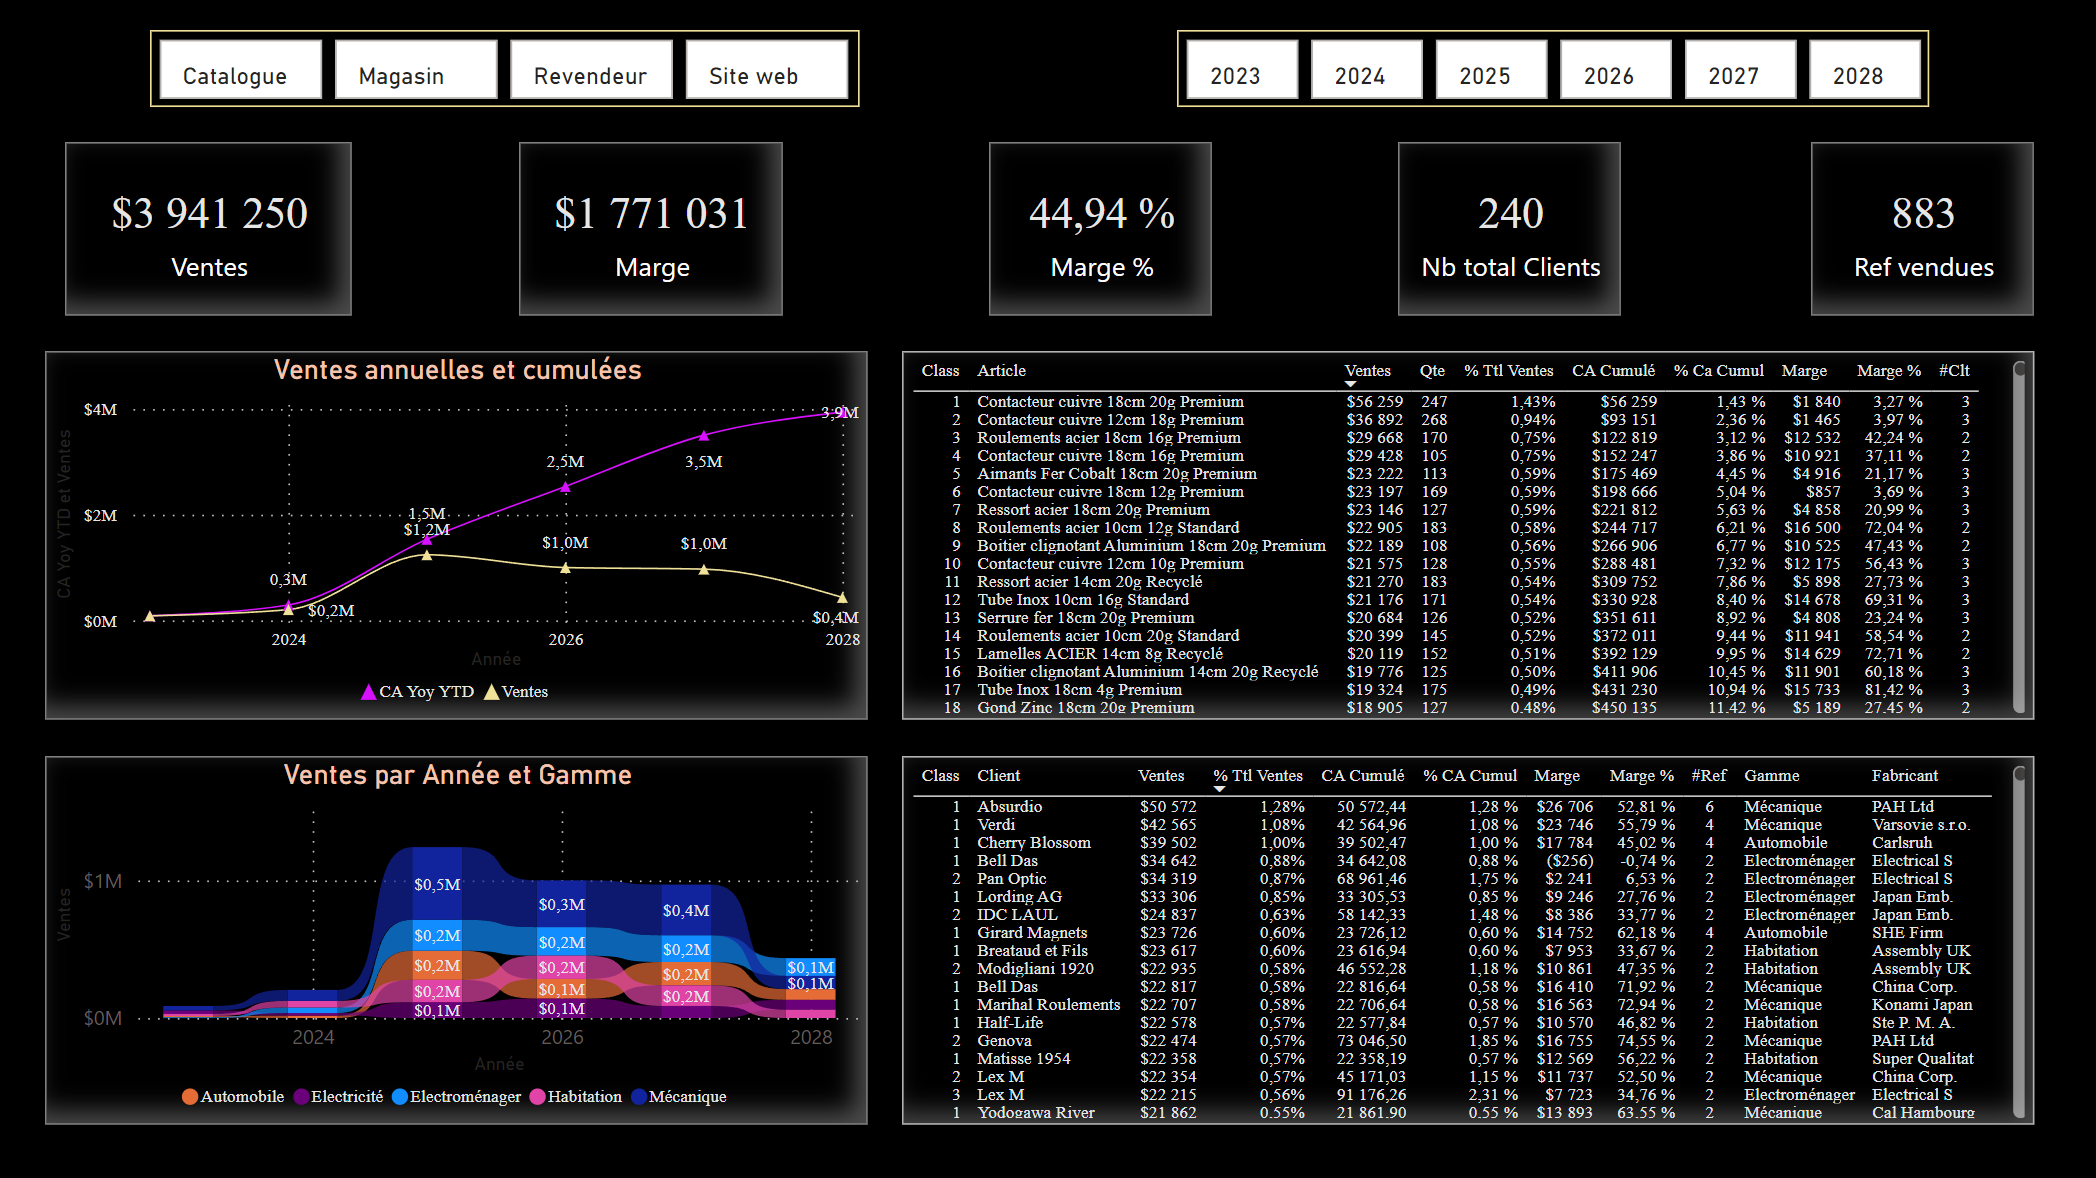

Layout of this report page (visuals, bound fields, positions):
{"tool":"powerbi","page":{"name":"CA par Canal","canvas":[1280,720],"ordinal":1},"visuals":[{"type":"advancedSlicerVisual","fields":{"Values":["Canal.Canal"]},"box":[91.5,18.9,433.2,47],"z":0},{"type":"advancedSlicerVisual","fields":{"Values":["Date.Année"]},"box":[718.2,18.9,459.5,47],"z":1000},{"type":"lineChart","title":"Ventes annuelles et cumulées","fields":{"Category":["Date.Année"],"Y":["Mesures.CA Yoy YTD","Mesures.Ventes"]},"box":[27.5,214.8,501.6,224.5],"z":2000},{"type":"ribbonChart","fields":{"Y":["Mesures.Ventes"],"Series":["Gamme.Gamme"],"Category":["Date.Année"]},"box":[27.5,461.9,501.6,224.5],"z":3000},{"type":"card","fields":{"Values":["Mesures.Nb Clients"]},"box":[853,87.3,136.1,105.6],"z":4000},{"type":"tableEx","fields":{"Values":["Mesures.Classement","Clients.Client","Mesures.Ventes","Divide(Mesures.Ventes, ScopedEval(Mesures.Ventes, []))","Mesures.Cumul client rank","Mesures.%Cumul Client Rank","Mesures.Marge","Mesures.Marge %","Mesures.Ref vendues","Gamme.Gamme","Fabricants.Fabricant"]},"box":[550.4,461.9,690.7,224.5],"z":5000},{"type":"card","fields":{"Values":["Mesures.Ref vendues"]},"box":[1105,87.3,136.1,105.6],"z":6000},{"type":"card","fields":{"Values":["Mesures.Marge"]},"box":[316.7,87.3,161.1,105.6],"z":7000},{"type":"card","fields":{"Values":["Mesures.Ventes"]},"box":[39.7,87.3,174.5,105.6],"z":8000},{"type":"card","fields":{"Values":["Mesures.Marge %"]},"box":[603.5,87.3,136.1,105.6],"z":9000},{"type":"tableEx","fields":{"Values":["Mesures.Classement Articles","Articles.Article","Mesures.Ventes","Mesures.Qte vendues","Divide(Mesures.Ventes, ScopedEval(Mesures.Ventes, []))","Mesures.Cumul Article rank","Mesures.%Cumul Articles Rank","Mesures.Marge","Mesures.Marge %","Mesures.Clt par ref"]},"box":[550.4,214.8,690.7,224.5],"z":10000}]}

Visuals, with their boxes in screenshot pixels (x1, y1, x2, y2), scaled from the page's 1280x720 canvas onto the 2096x1178 screenshot:
advancedSlicerVisual - Canal.Canal: {"left": 150, "top": 31, "right": 859, "bottom": 108}
advancedSlicerVisual - Date.Année: {"left": 1176, "top": 31, "right": 1928, "bottom": 108}
"Ventes annuelles et cumulées" lineChart: {"left": 45, "top": 351, "right": 866, "bottom": 719}
ribbonChart - Mesures.Ventes x Gamme.Gamme: {"left": 45, "top": 756, "right": 866, "bottom": 1123}
card - Mesures.Nb Clients: {"left": 1397, "top": 143, "right": 1620, "bottom": 316}
tableEx - Mesures.Classement x Clients.Client: {"left": 901, "top": 756, "right": 2032, "bottom": 1123}
card - Mesures.Ref vendues: {"left": 1809, "top": 143, "right": 2032, "bottom": 316}
card - Mesures.Marge: {"left": 519, "top": 143, "right": 782, "bottom": 316}
card - Mesures.Ventes: {"left": 65, "top": 143, "right": 351, "bottom": 316}
card - Mesures.Marge %: {"left": 988, "top": 143, "right": 1211, "bottom": 316}
tableEx - Mesures.Classement Articles x Articles.Article: {"left": 901, "top": 351, "right": 2032, "bottom": 719}
